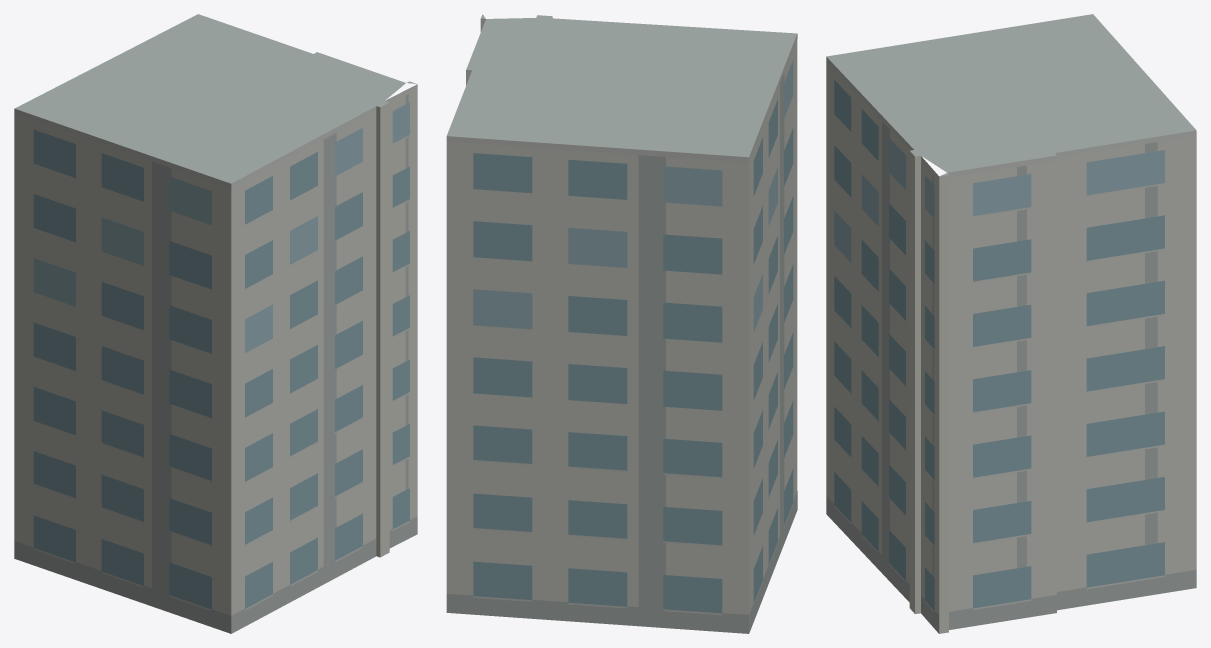
File: residential-9d14939b-e3bc-49fa-a9a3-2c2215e2b4a6.glb
3 renders of one model, left to right at view 1: azimuth 30°, elevation 25°; view 2: azimuth 150°, elevation 25°; view 3: azimuth 270°, elevation 25°, orthographic. The views are drawn at different scales.
Parts seen in each view (by area): view 1: residential-9d14939b-e3bc-49fa-a9a3-2c2215e2b4a6.tmp; view 2: residential-9d14939b-e3bc-49fa-a9a3-2c2215e2b4a6.tmp; view 3: residential-9d14939b-e3bc-49fa-a9a3-2c2215e2b4a6.tmp.
Boxes of the visible parts, x1,y1,x2,y2 form: residential-9d14939b-e3bc-49fa-a9a3-2c2215e2b4a6.tmp: [14, 14, 417, 633]; residential-9d14939b-e3bc-49fa-a9a3-2c2215e2b4a6.tmp: [446, 14, 797, 633]; residential-9d14939b-e3bc-49fa-a9a3-2c2215e2b4a6.tmp: [826, 14, 1196, 633].
Bounding box in the file's own units: 15.99 × 21 × 15.42.
